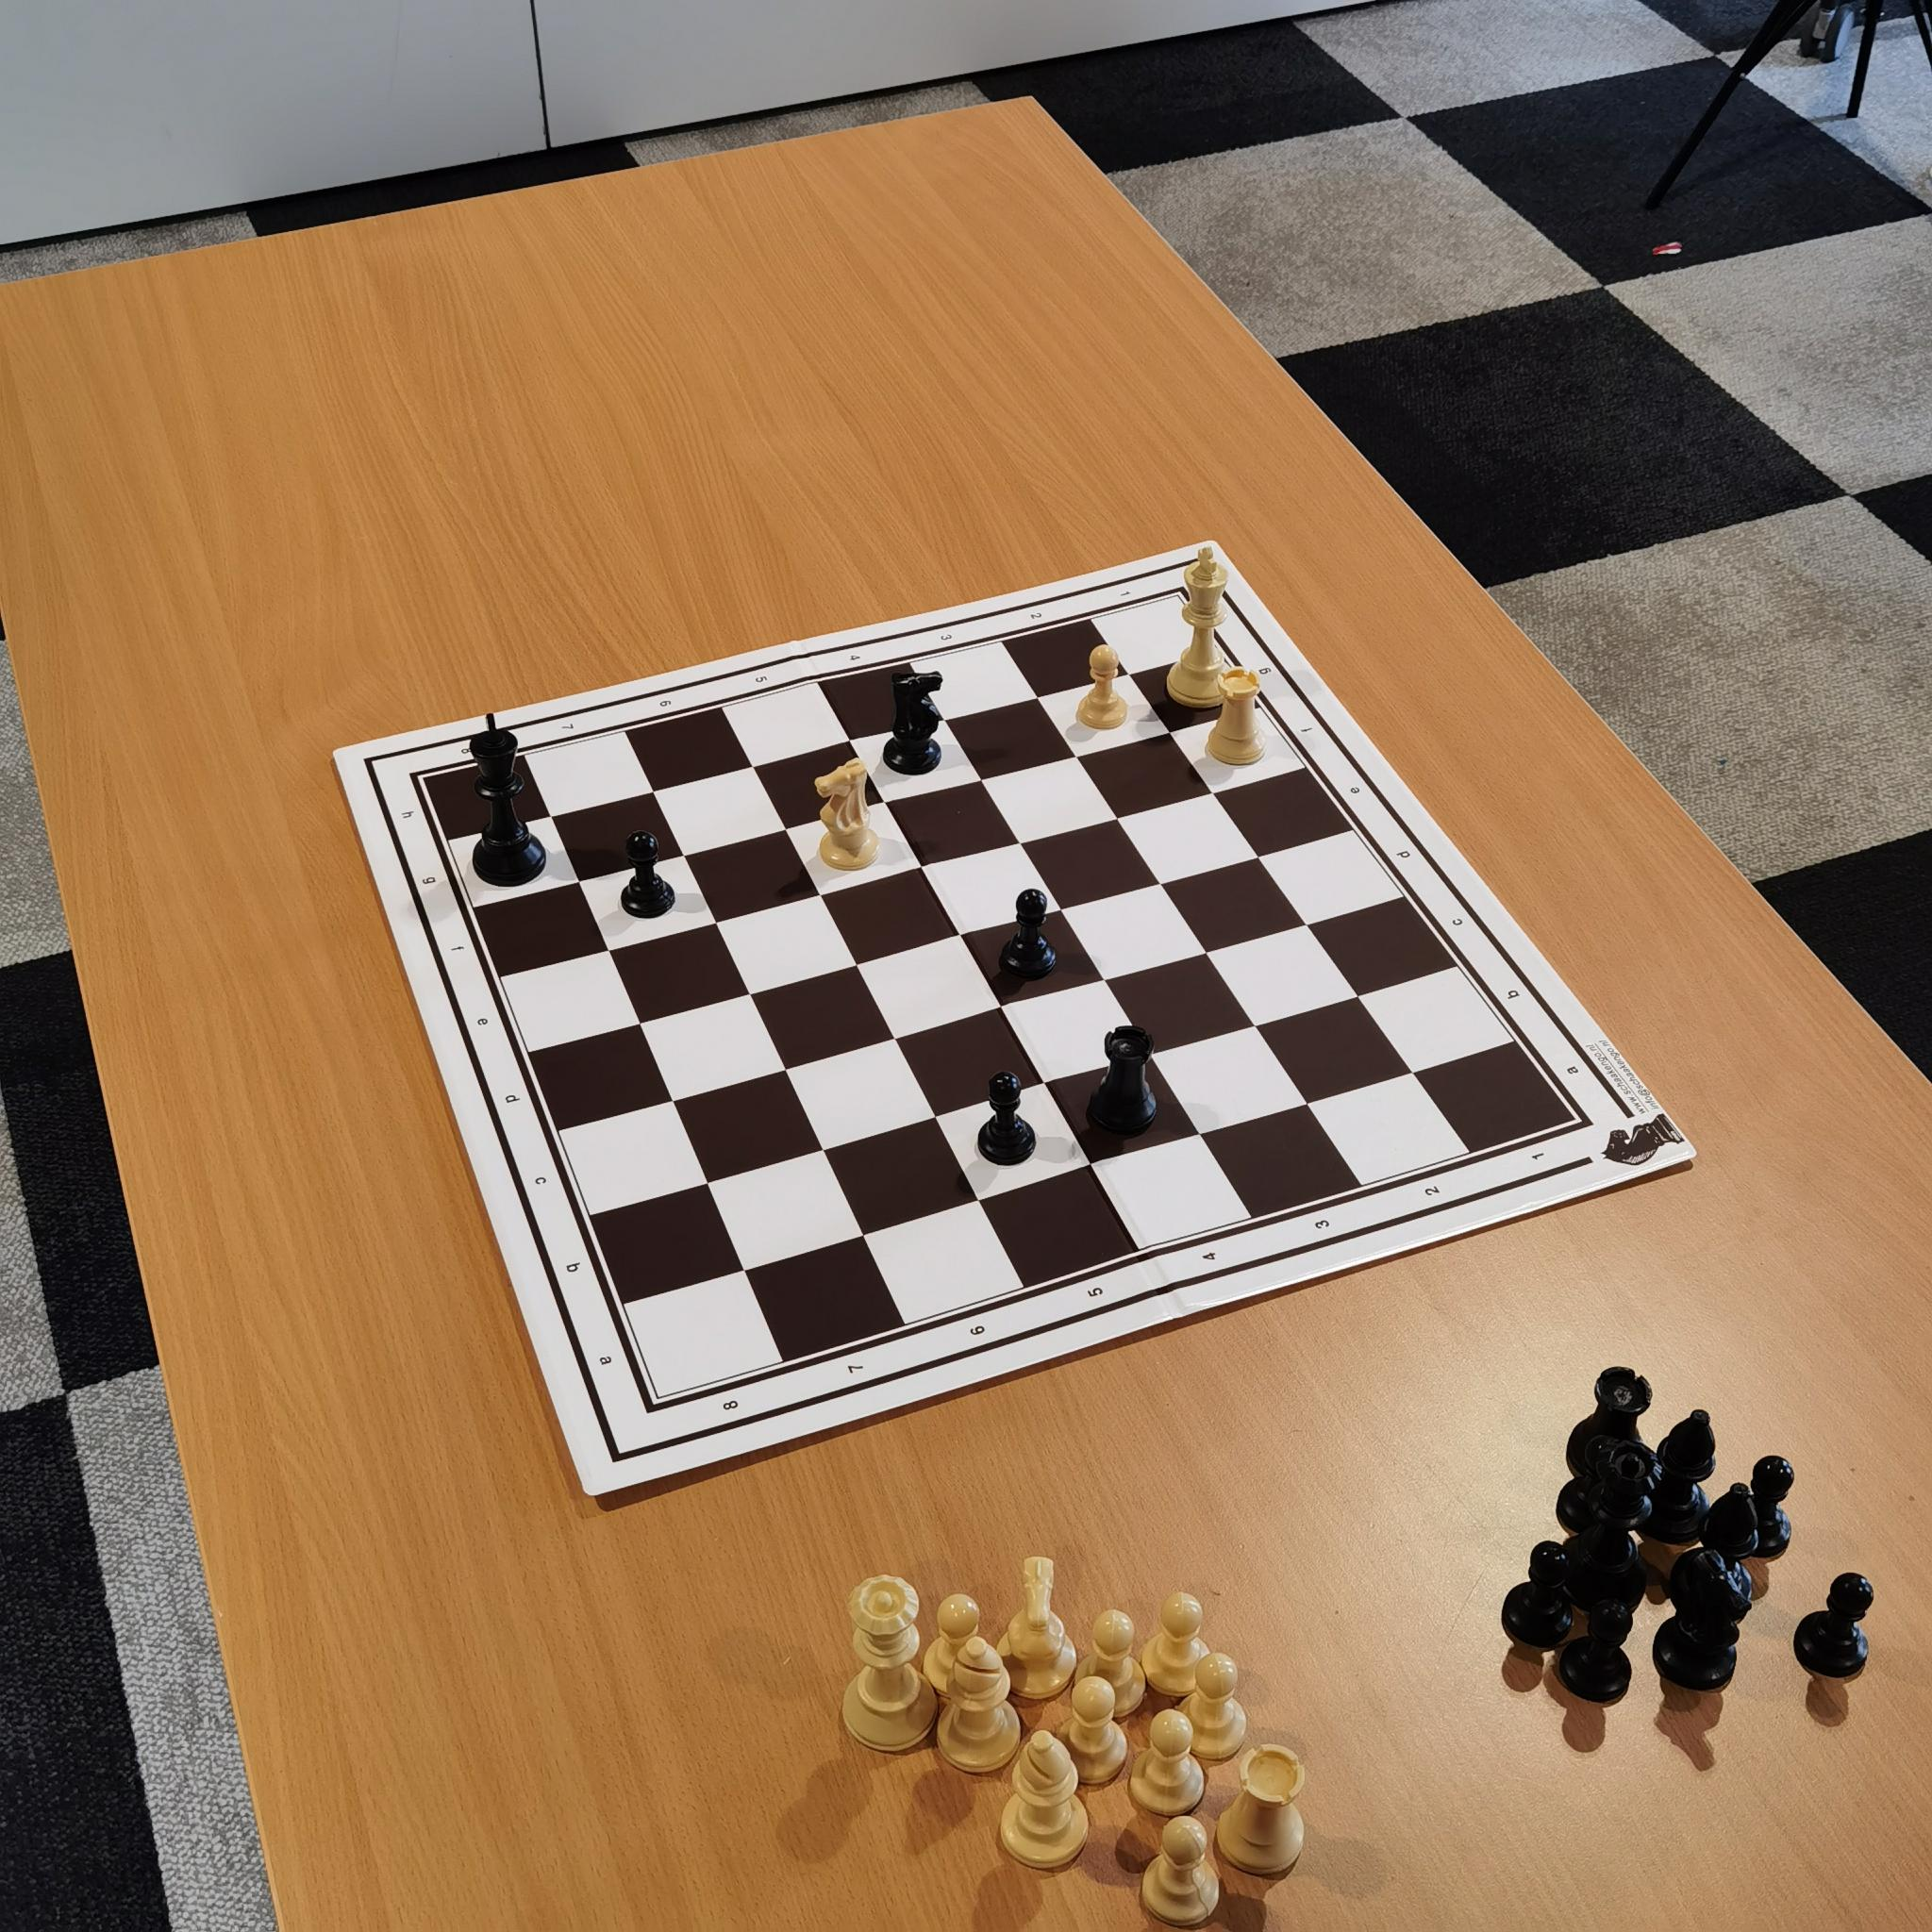corners: (1568, 1108, 1610, 1150), (633, 1389, 676, 1428), (400, 763, 442, 793), (1169, 573, 1201, 607)
eight: (715, 1380, 750, 1422), (458, 740, 479, 766)
one: (1522, 1143, 1557, 1173), (1118, 579, 1141, 603)
